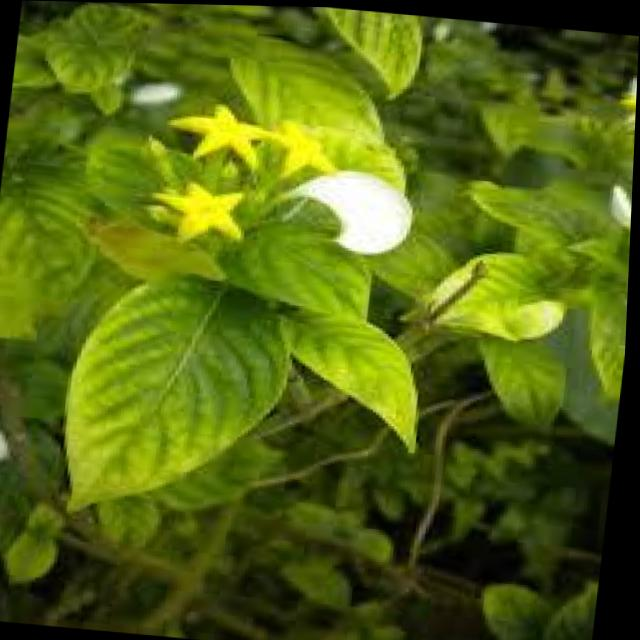Flower: (88, 63, 465, 284)
